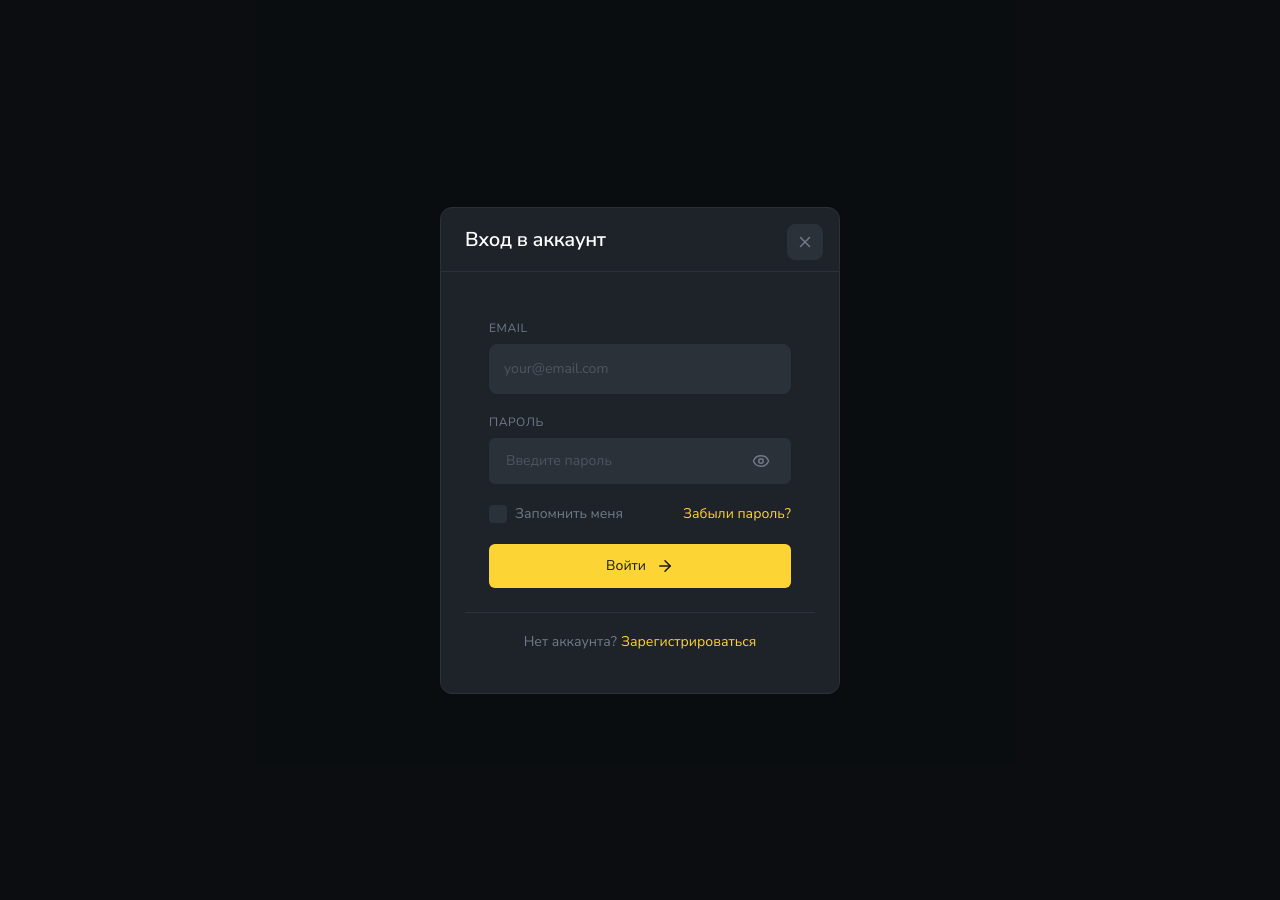
Scenario: LoginModal › clears error on successful retry
The image size is (1280, 900).
Type "test@example.com" into the field with placeholder "your@email.com" at x=640, y=368, box left=489, top=344, right=791, bottom=394
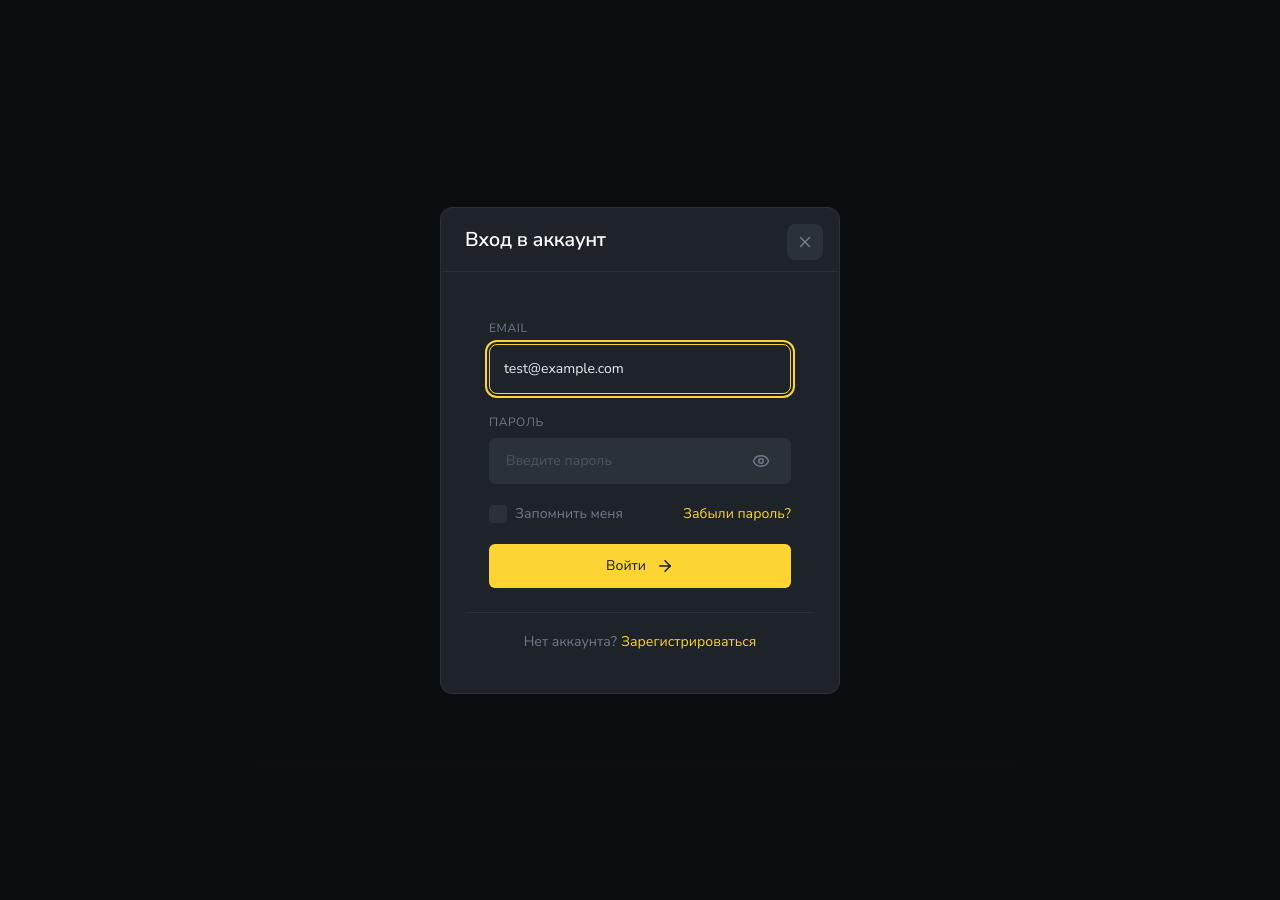
Type "password123" into the password field labelled "Пароль" at x=640, y=460, box left=489, top=438, right=791, bottom=484
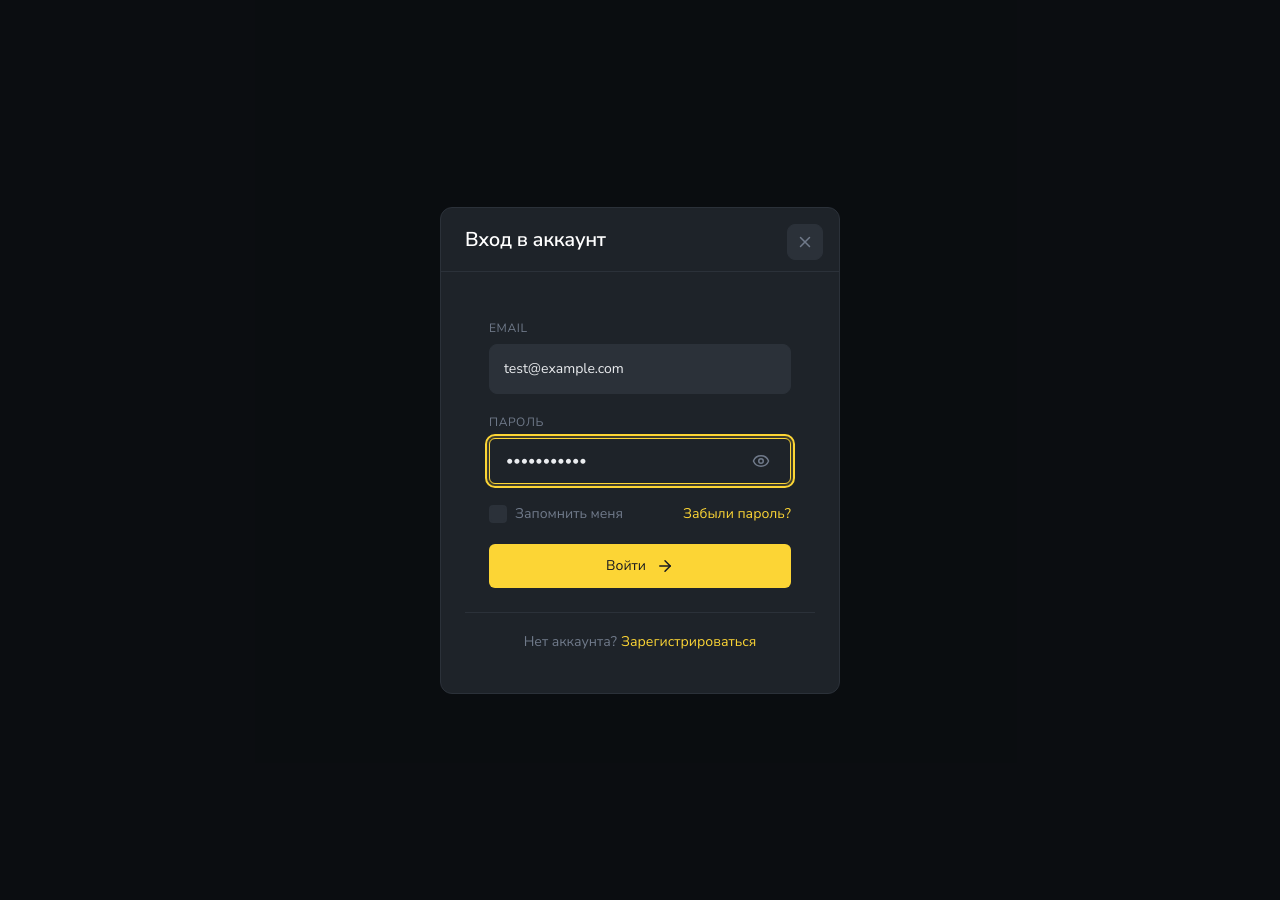
Click the button "Войти" at x=640, y=566, box left=489, top=544, right=791, bottom=588
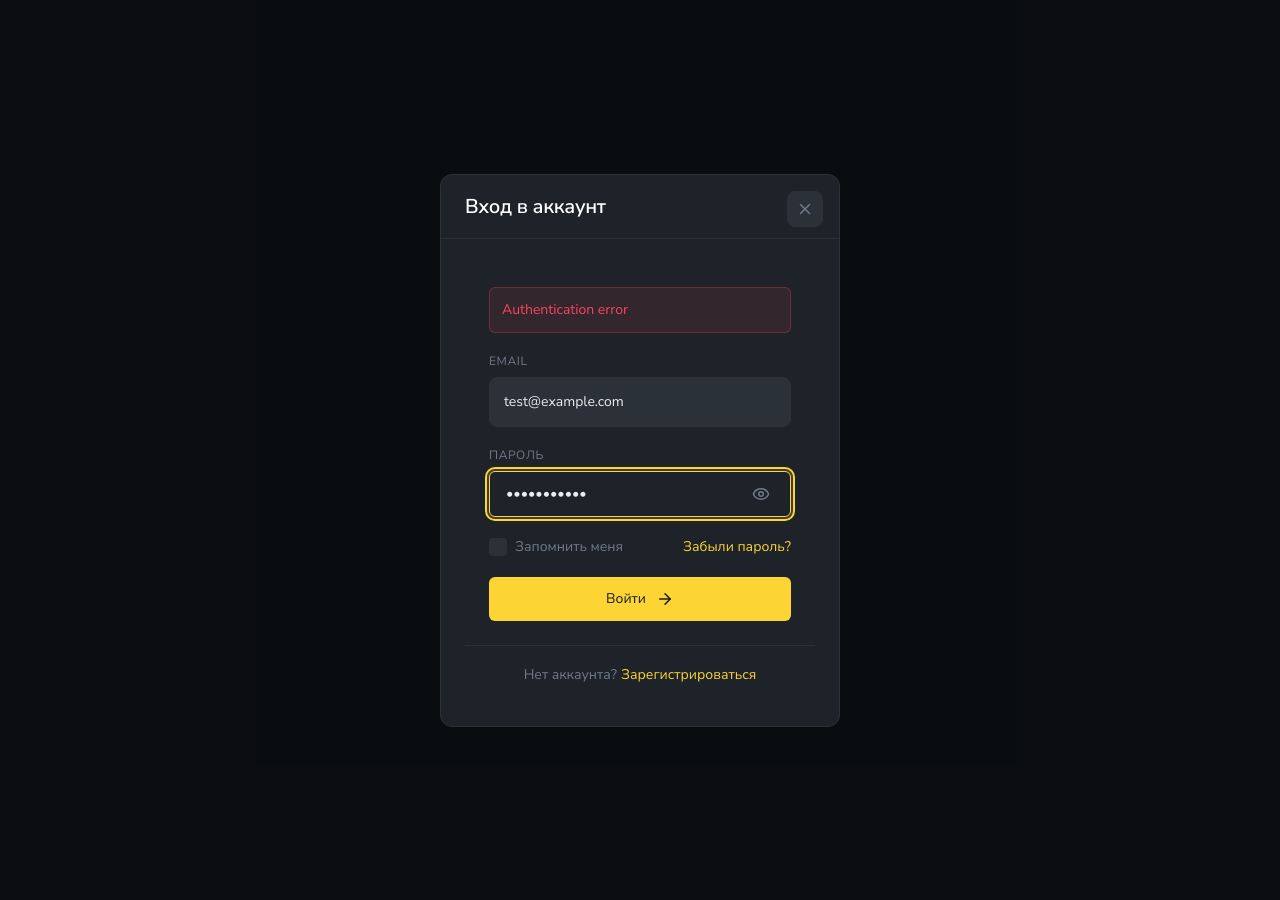
Expected: the message "Authentication error" is shown, left=489, top=286, right=791, bottom=332
Click the button "Войти" at x=640, y=598, box left=489, top=576, right=791, bottom=620
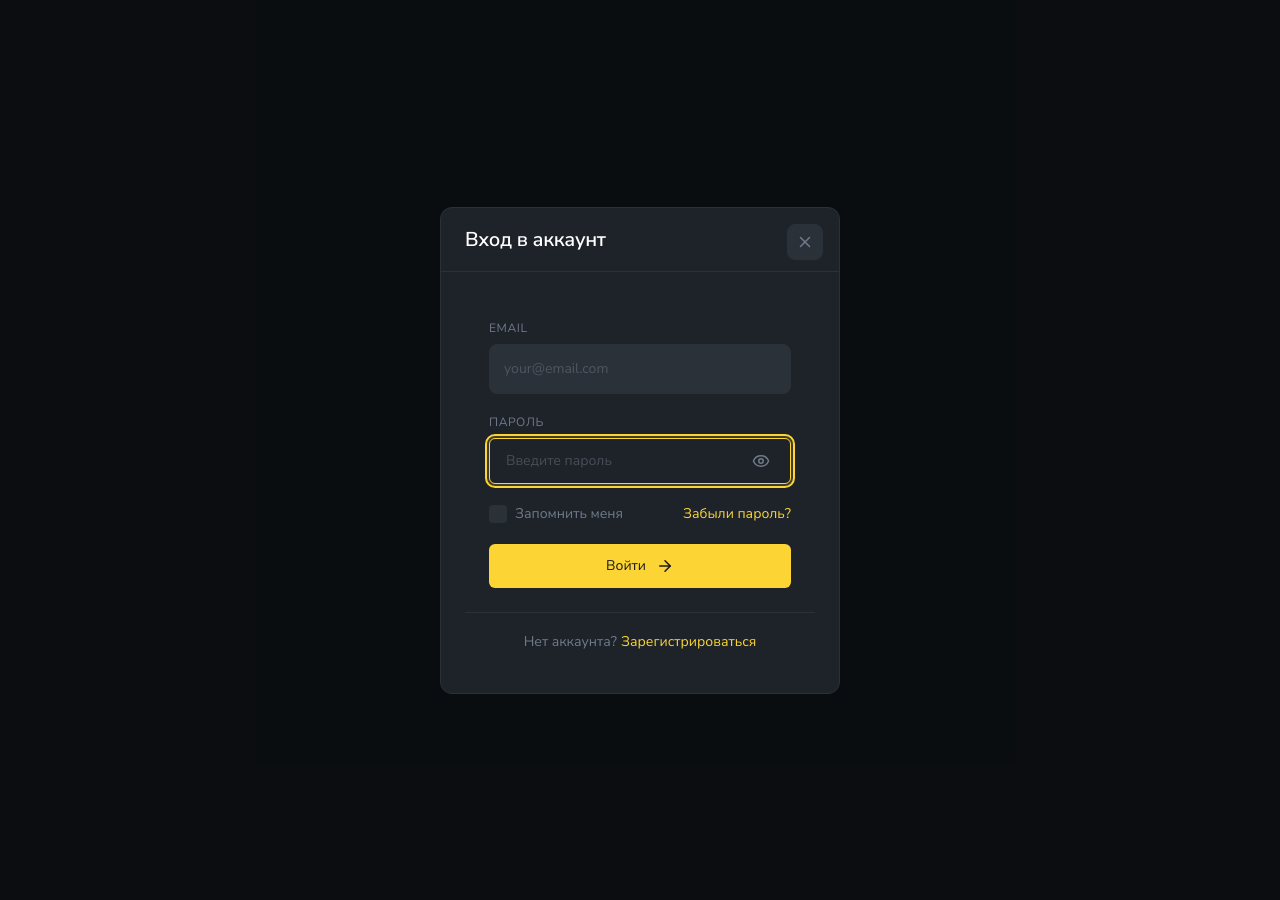
Expected: the message "Authentication error" is gone
